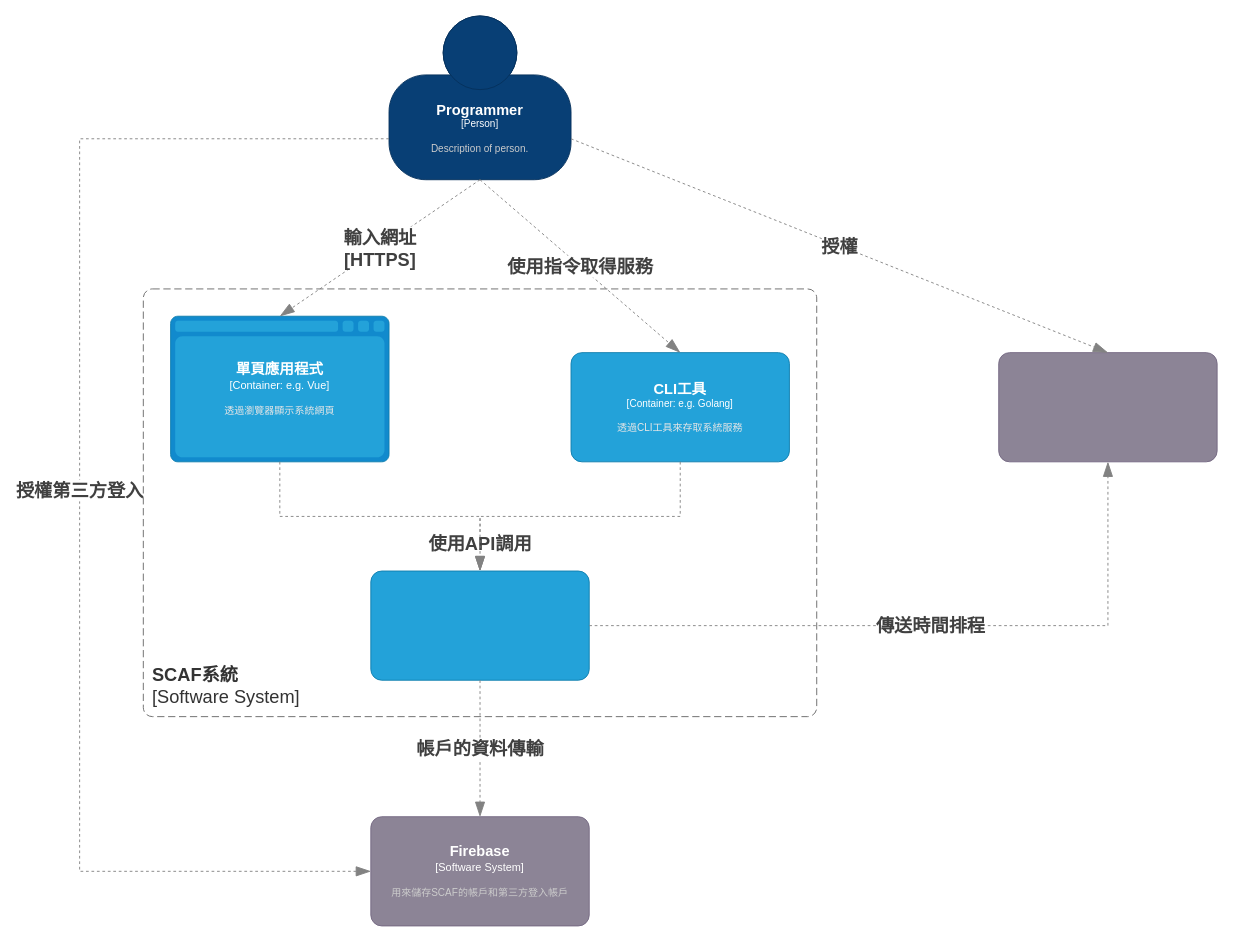
Some shapes in this 1233 by 942 pixel diagram are drawn without their labels. Here are the shapes that lost their labels. From the top down, the centre of each, then its label:
pixel 1107 407: Google日曆 [Software System] 將專案的日程同步
pixel 479 625: API後端應用程式 [Container: e.g. Golang] API後端
